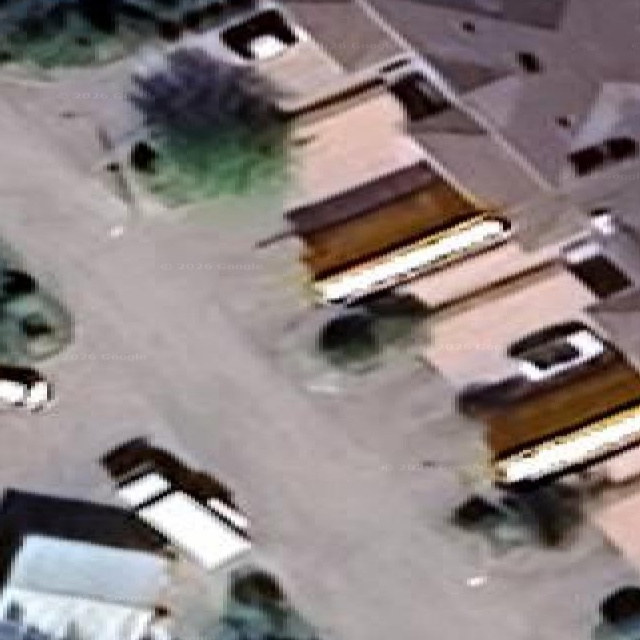car: (101, 438, 250, 569), (0, 365, 52, 410)
